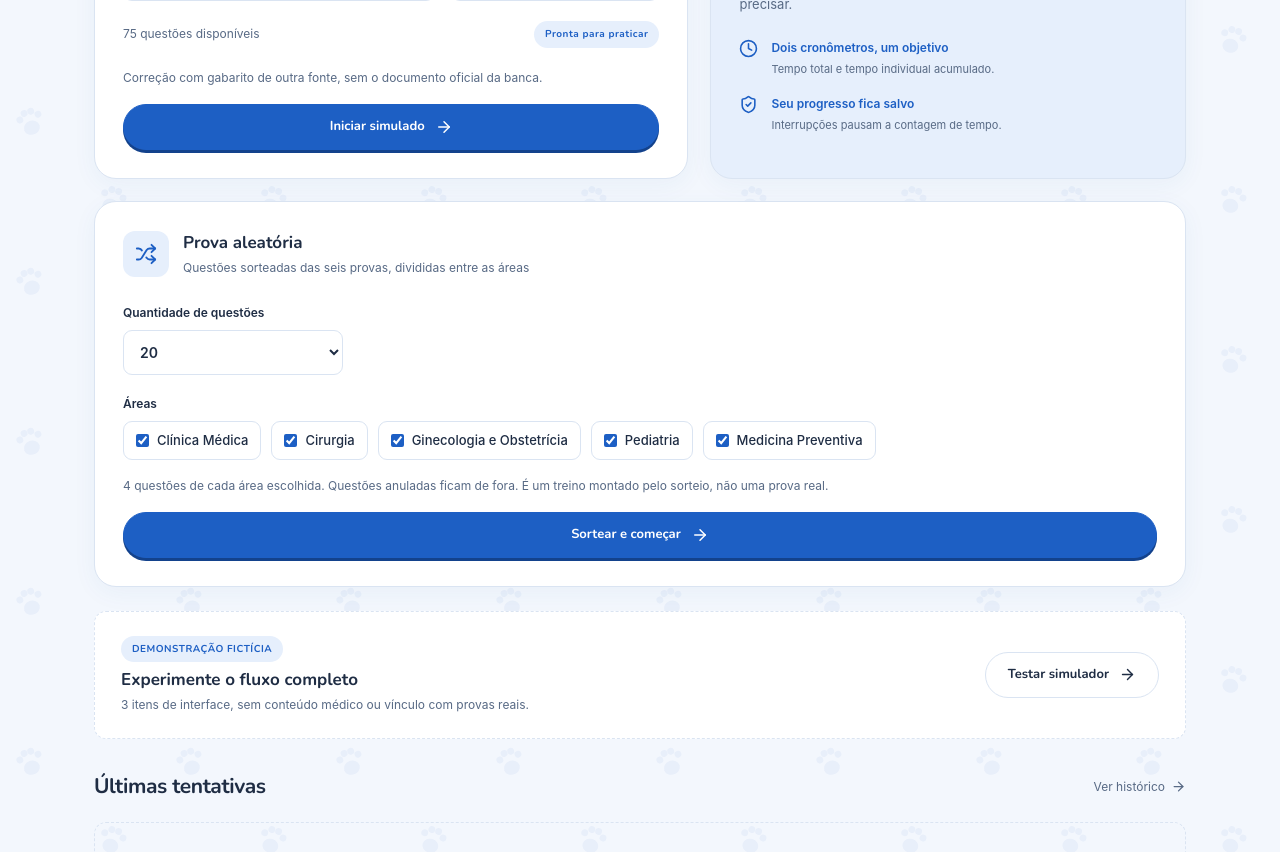
Prova aleatória › sorteia das áreas escolhidas e mostra de onde veio cada questão
(page scrolled)
Click the checkbox labelled "Clínica Médica" at [142, 440], box [136,434,149,447]
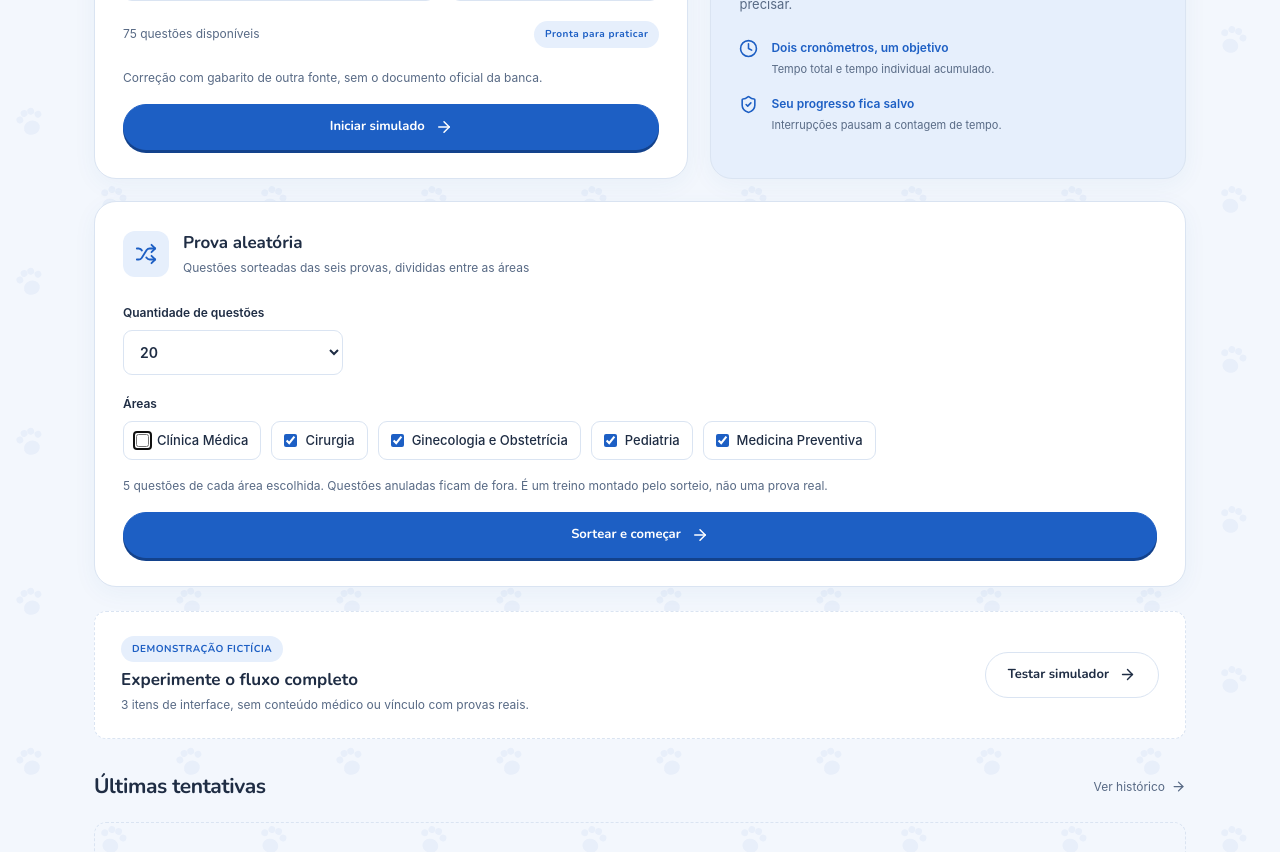
Click the checkbox labelled "Cirurgia" at [291, 440], box [284,434,298,447]
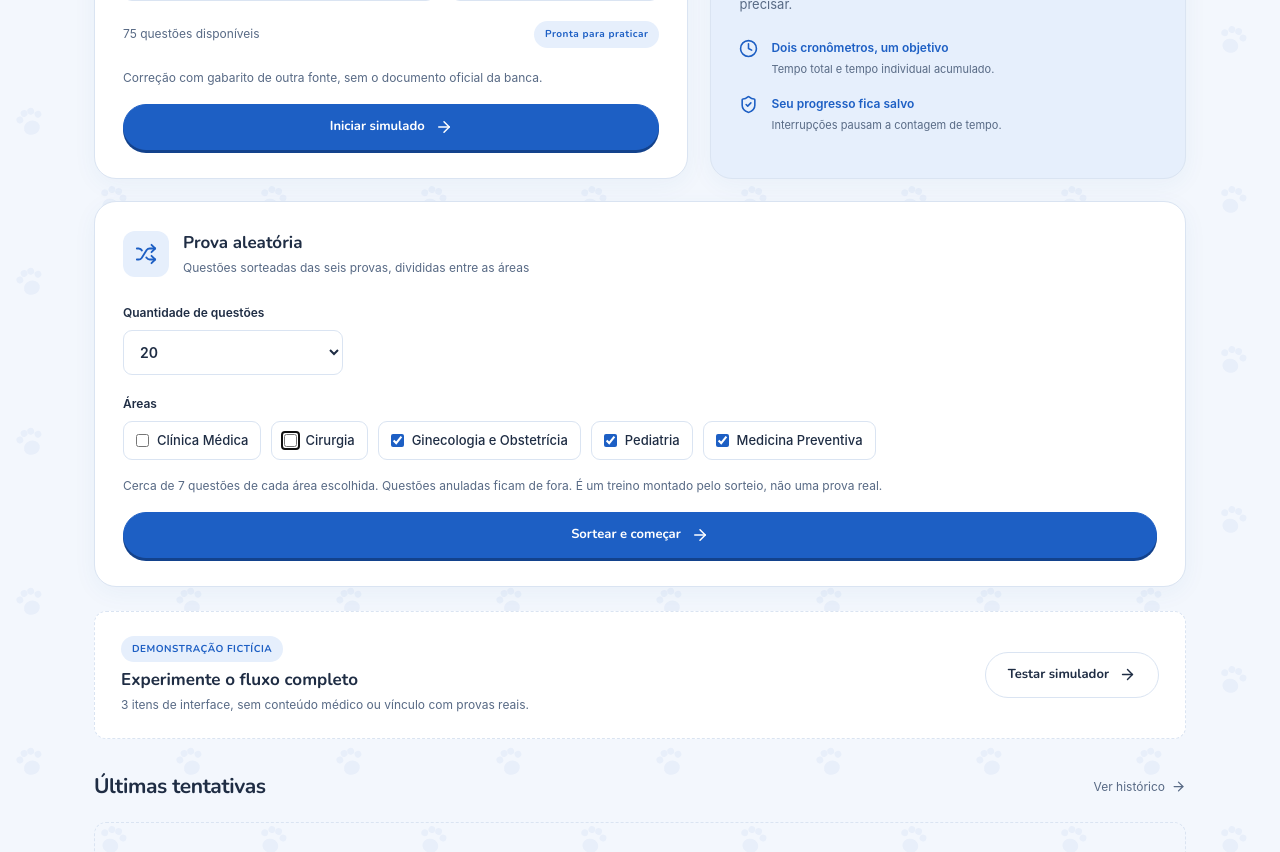
Click the checkbox labelled "Ginecologia e Obstetrícia" at [397, 440], box [391,434,404,447]
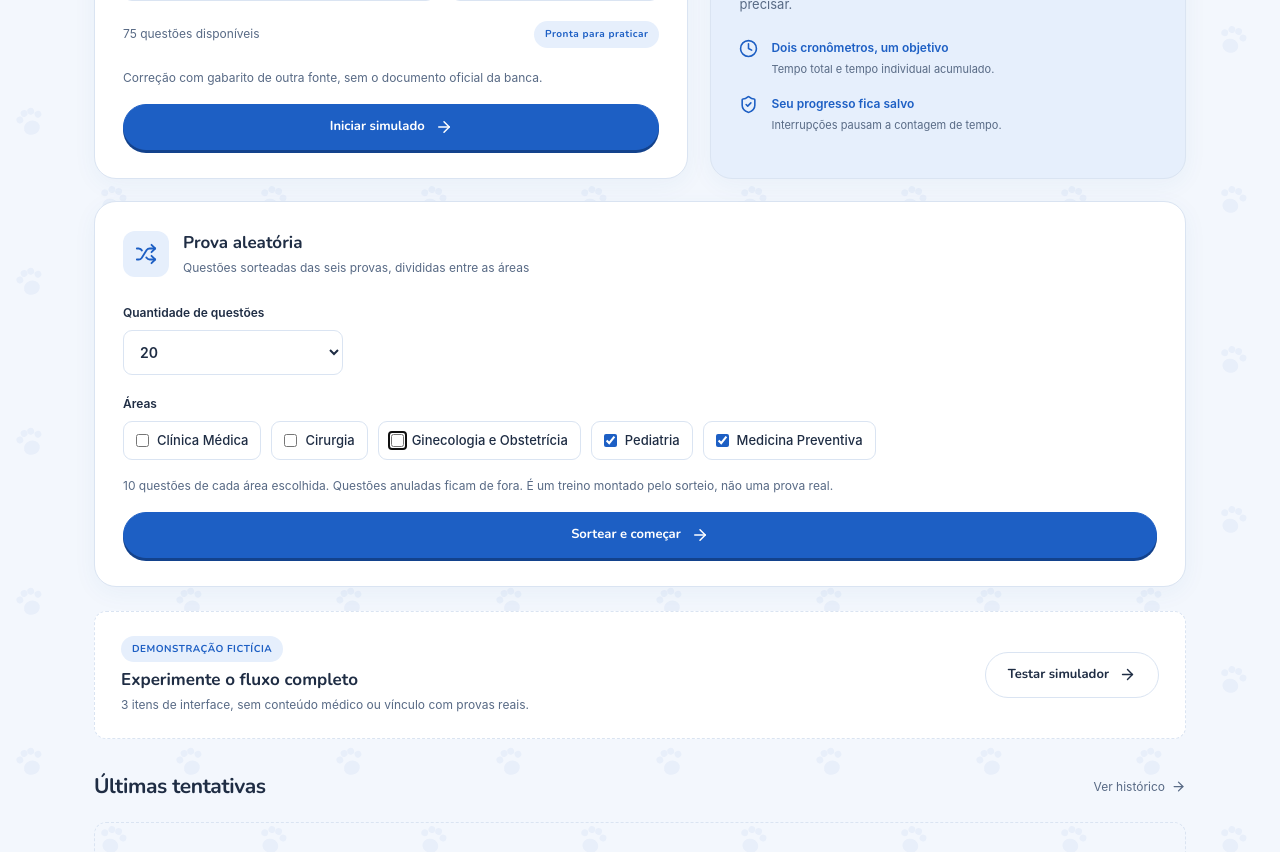
Click the checkbox labelled "Medicina Preventiva" at [722, 440], box [716,434,729,447]
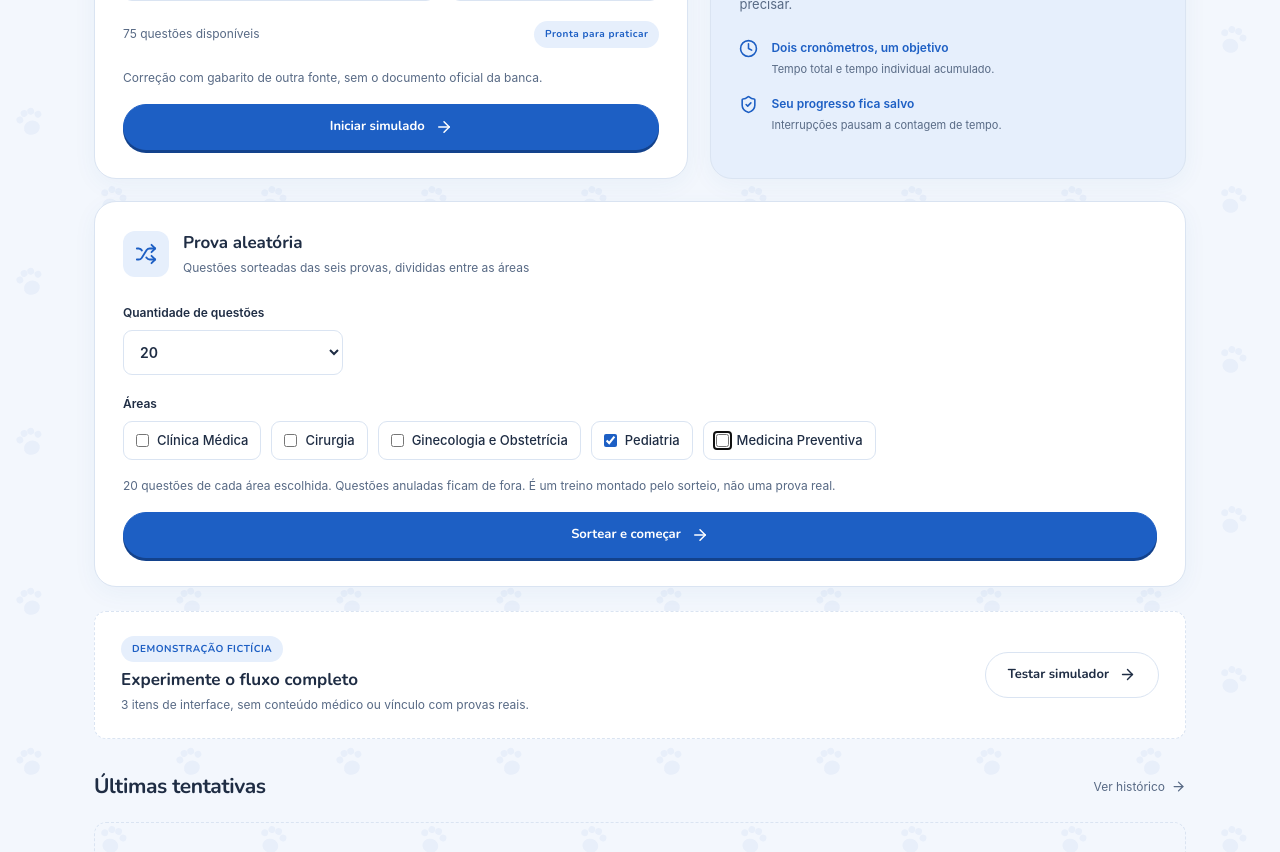
Select "10" in the dropdown labelled "Quantidade de questões" at [233, 352], box [123,330,343,374]
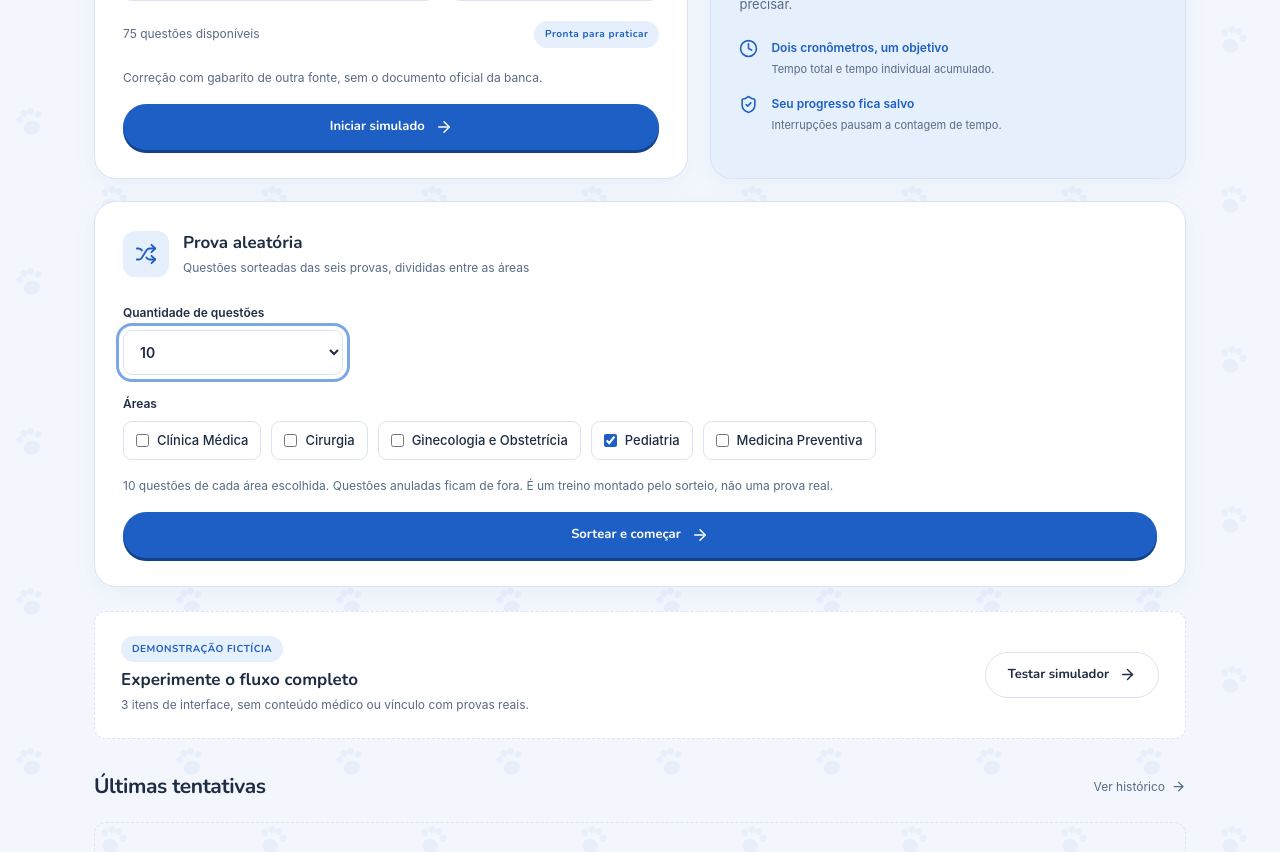
Now the text "10 questões de cada área escolhida" is shown, box [123,478,329,493]
Click the button "Sortear e começar" at [640, 535], box [123,512,1157,558]
(page scrolled)
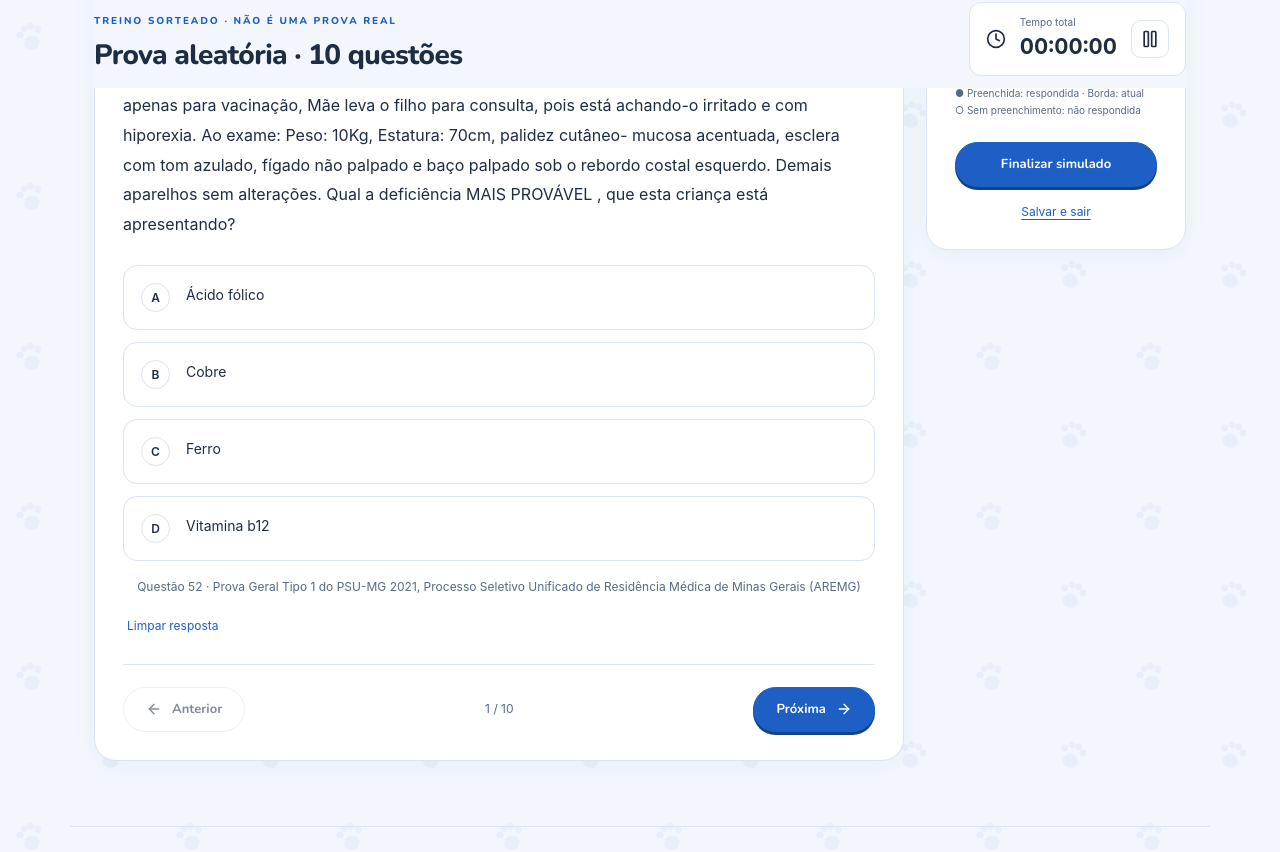
Now the heading "Prova aleatória · 10 questões" is shown, box [94,39,462,72]
Now the text "TREINO SORTEADO · NÃO É UMA PROVA REAL" is shown, box [94,14,397,29]
